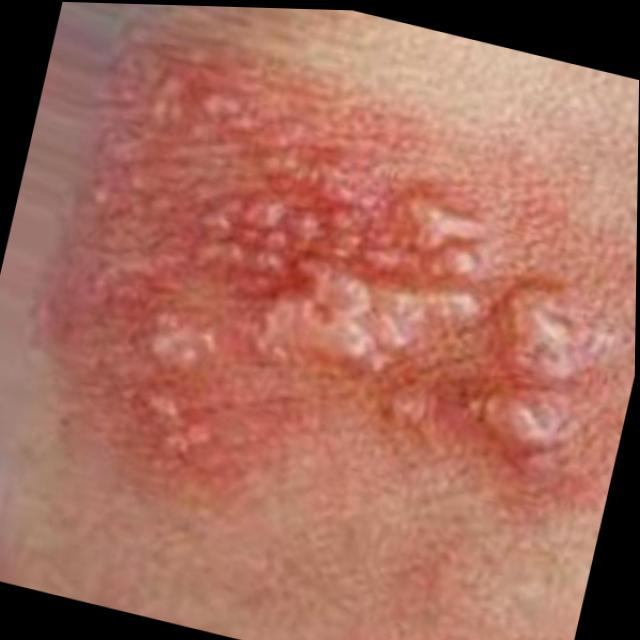Shingles: (55, 97, 630, 450)
